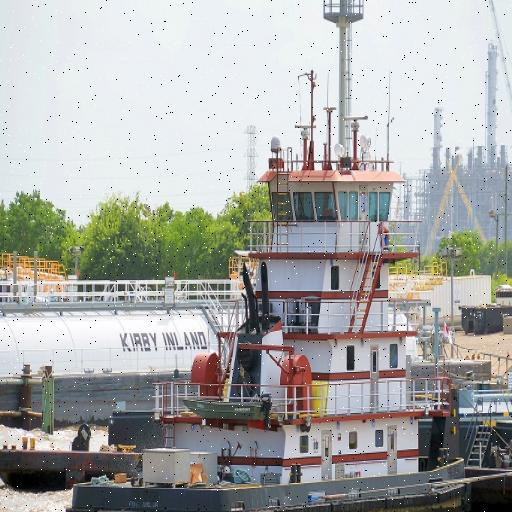tugboat: (63, 157, 475, 512)
